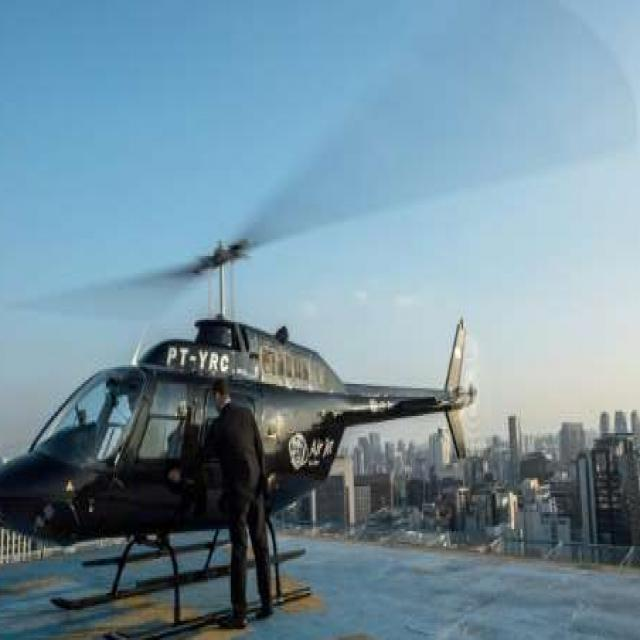helicopter: (1, 240, 484, 640)
